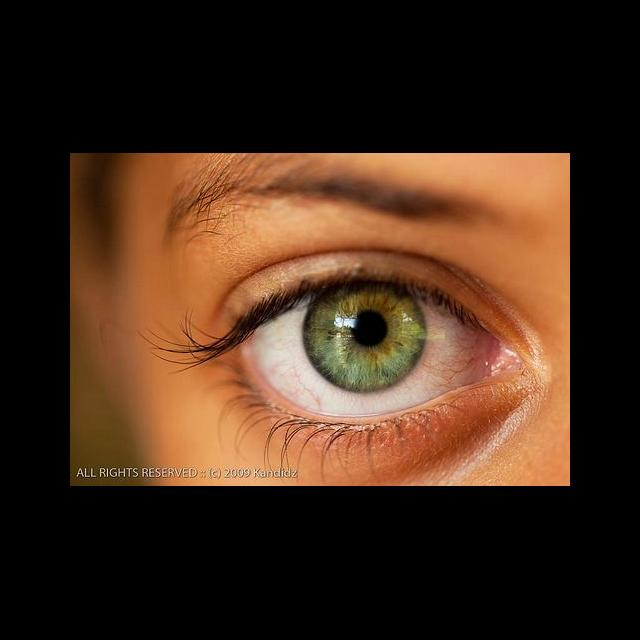eye: (240, 283, 481, 417)
iris: (303, 286, 424, 392)
